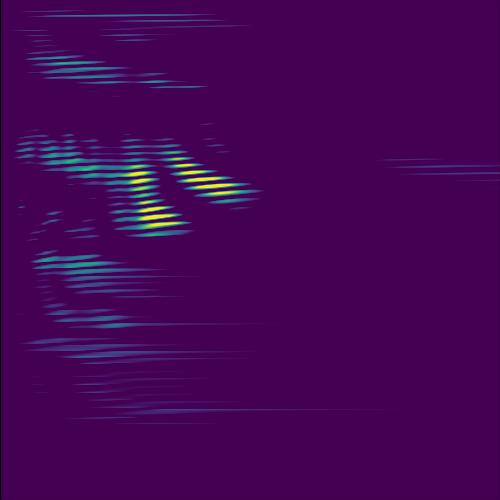semblance: (114, 159, 191, 237)
